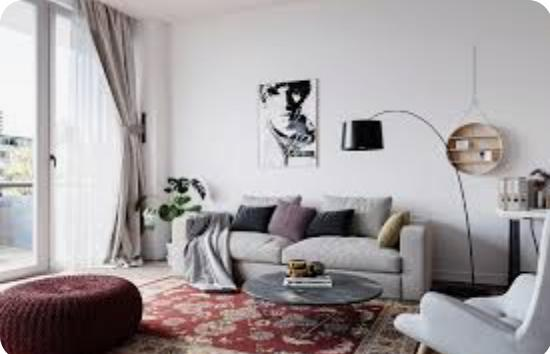carpet: (125, 281, 382, 354)
